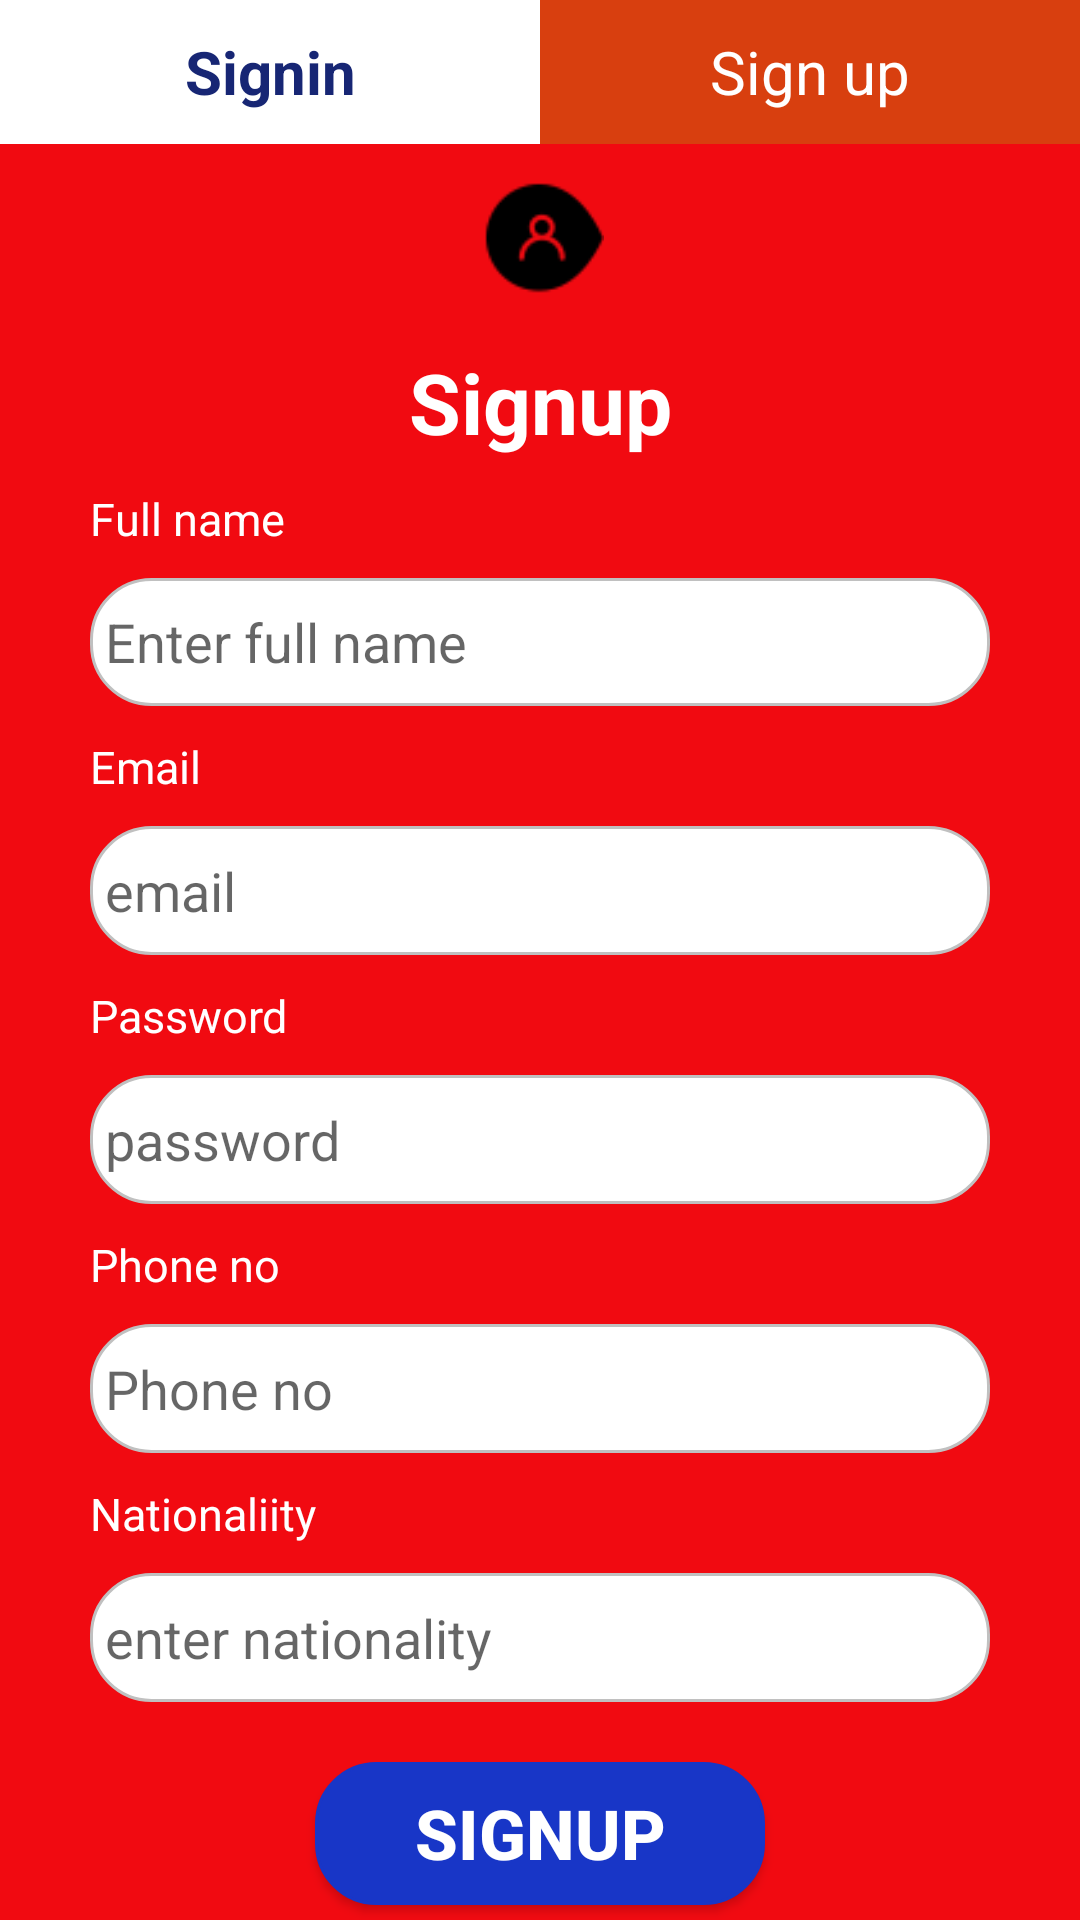

Named icons in this screenshot (1080x1920) and their bounding boxes, (x1=x1, y1=y1, x2=x2, y2=y2):
loginicon: (x1=485, y1=183, x2=604, y2=293)
